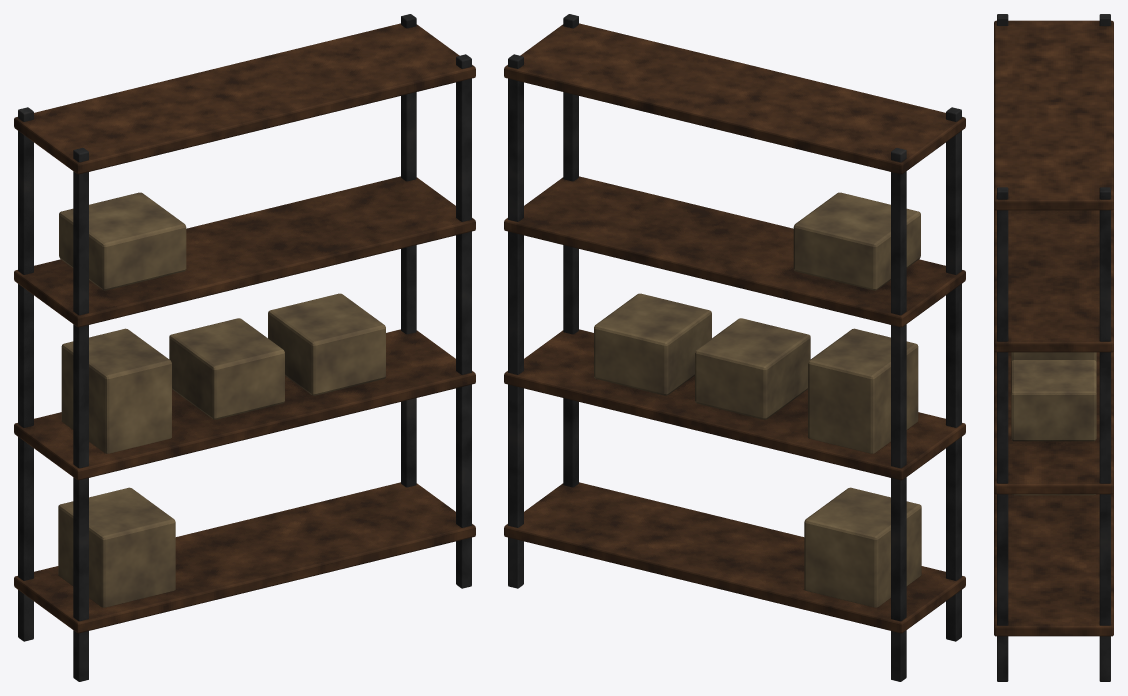
The model's file is room_shelf.glb.
3 views of the same model, side by side, from view 1: azimuth 30°, elevation 25°; view 2: azimuth 150°, elevation 25°; view 3: azimuth 270°, elevation 25° (orthographic). The views are drawn at different scales.
Visible parts, largest first — view 1: room_shelf; view 2: room_shelf; view 3: room_shelf.
Part boxes in pixels (x1,y1,x2,y2): room_shelf: [14, 14, 475, 681]; room_shelf: [504, 14, 965, 681]; room_shelf: [994, 14, 1113, 681].
Bounding box in the file's own units: 1.5 × 1.9 × 0.42.
3 materials, 3 textured.
